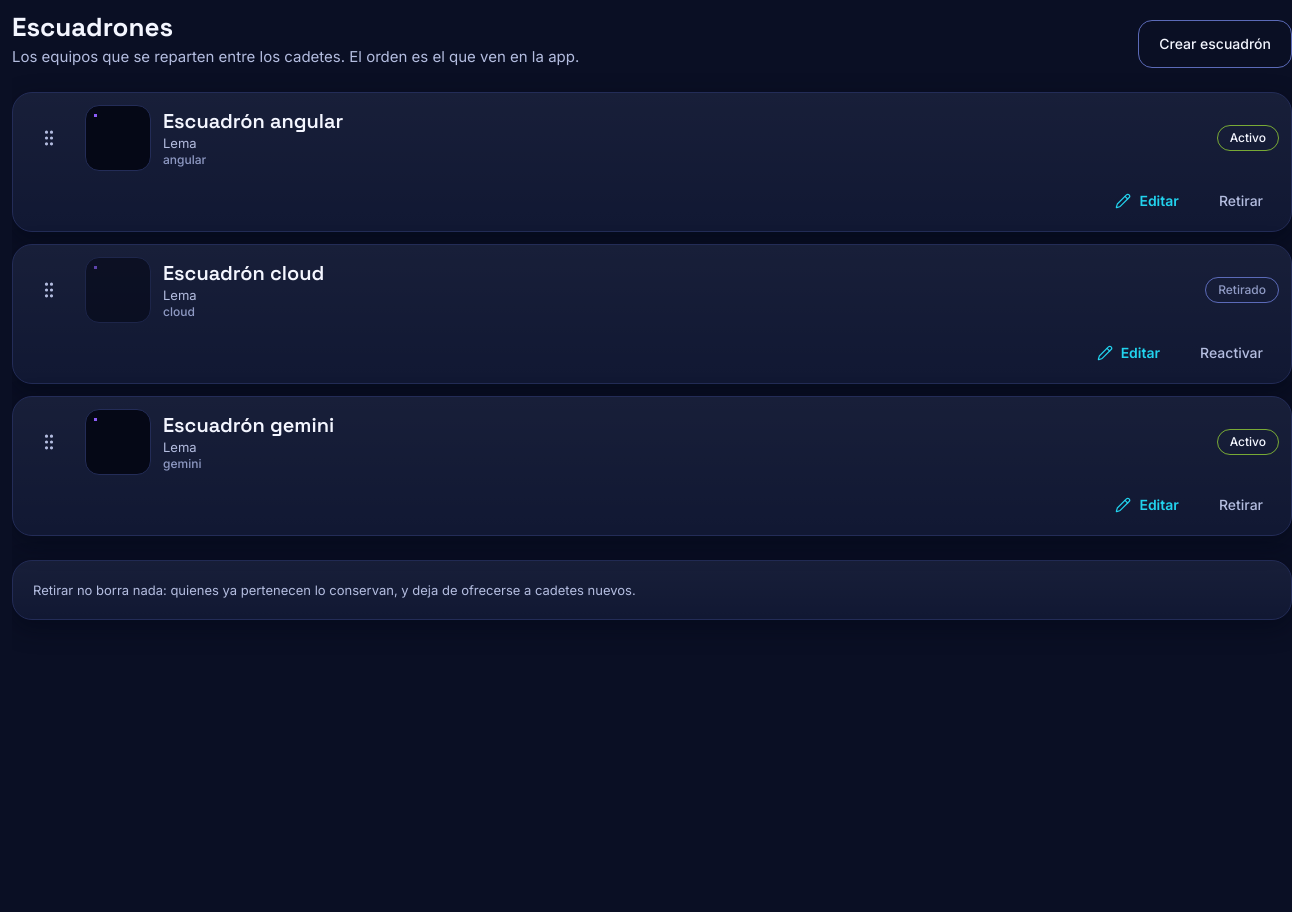
Test: SquadsAdminView › shows the server's reason when it refuses
What coordinates should you click on to do the following:
click the 1st button "Retirar"
I would click on:
 (1241, 201)
Its box is [1203,183,1279,219].
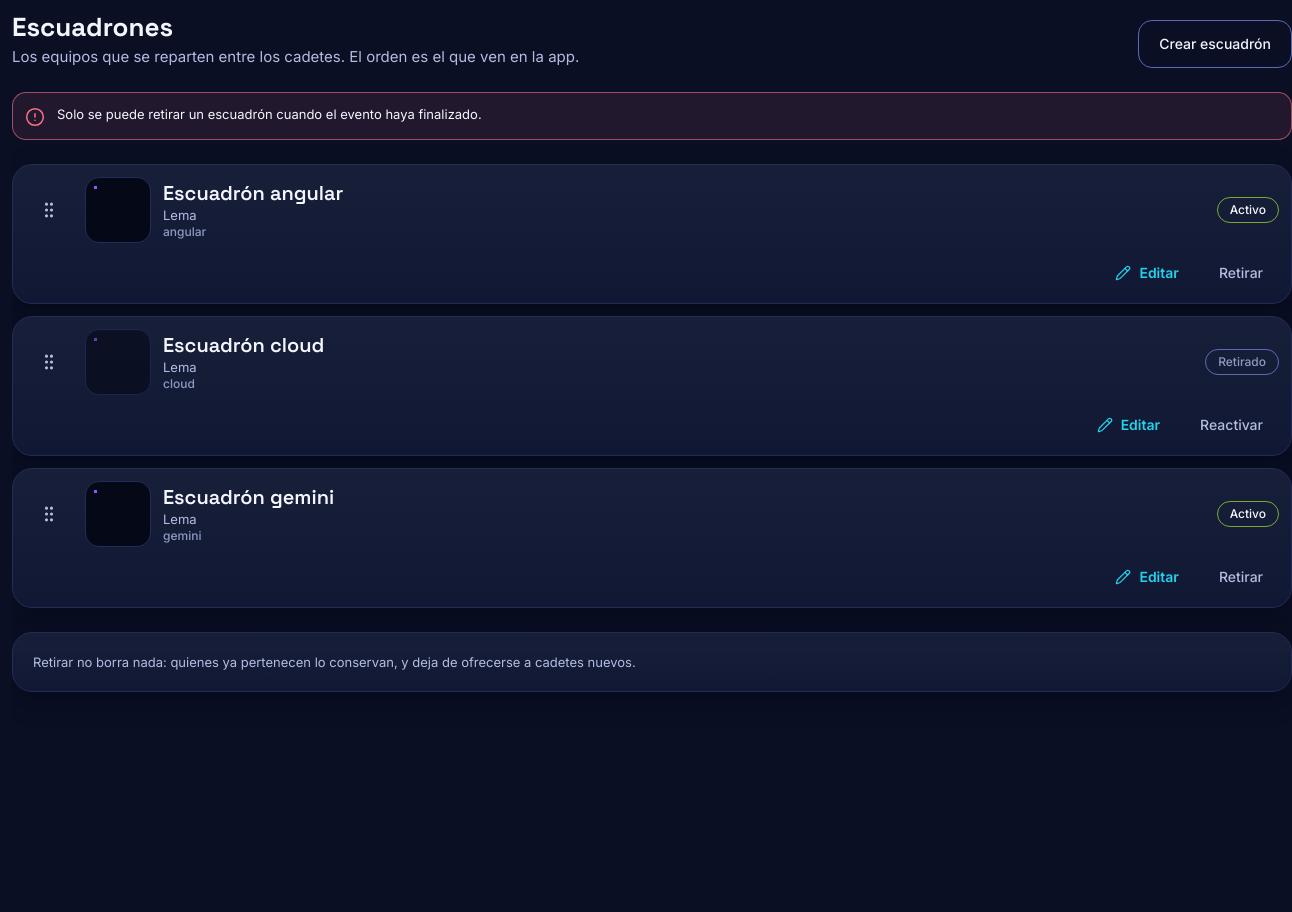
Now the message reads "Solo se puede retirar un escuadrón cuando el evento haya finalizado.", box [57,106,482,122]
